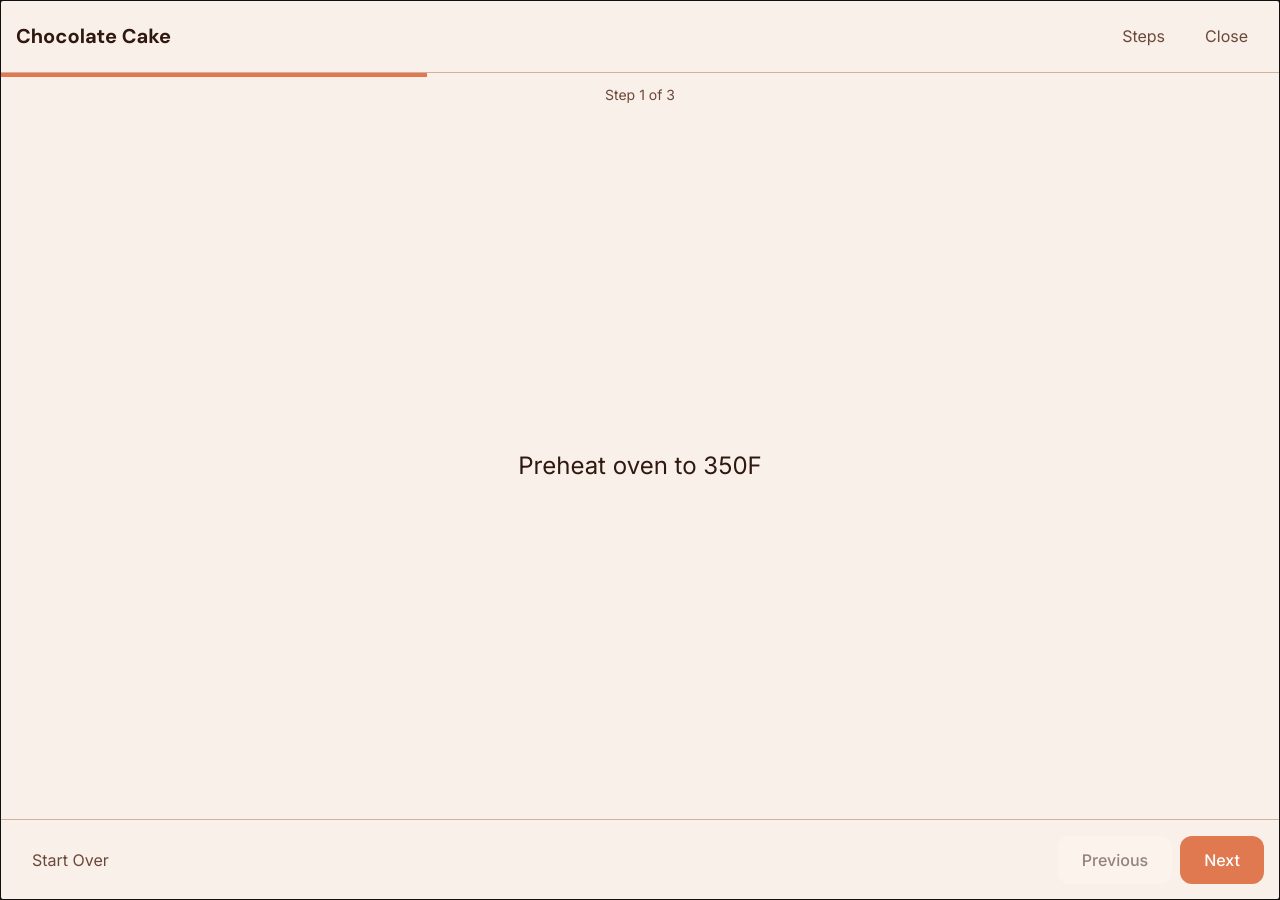
Test: CookingModeOverlay › should navigate steps with Next and Previous buttons
Step 1. Click the button "Next" → [1222, 860], box x1=1180 y1=836 x2=1264 y2=884
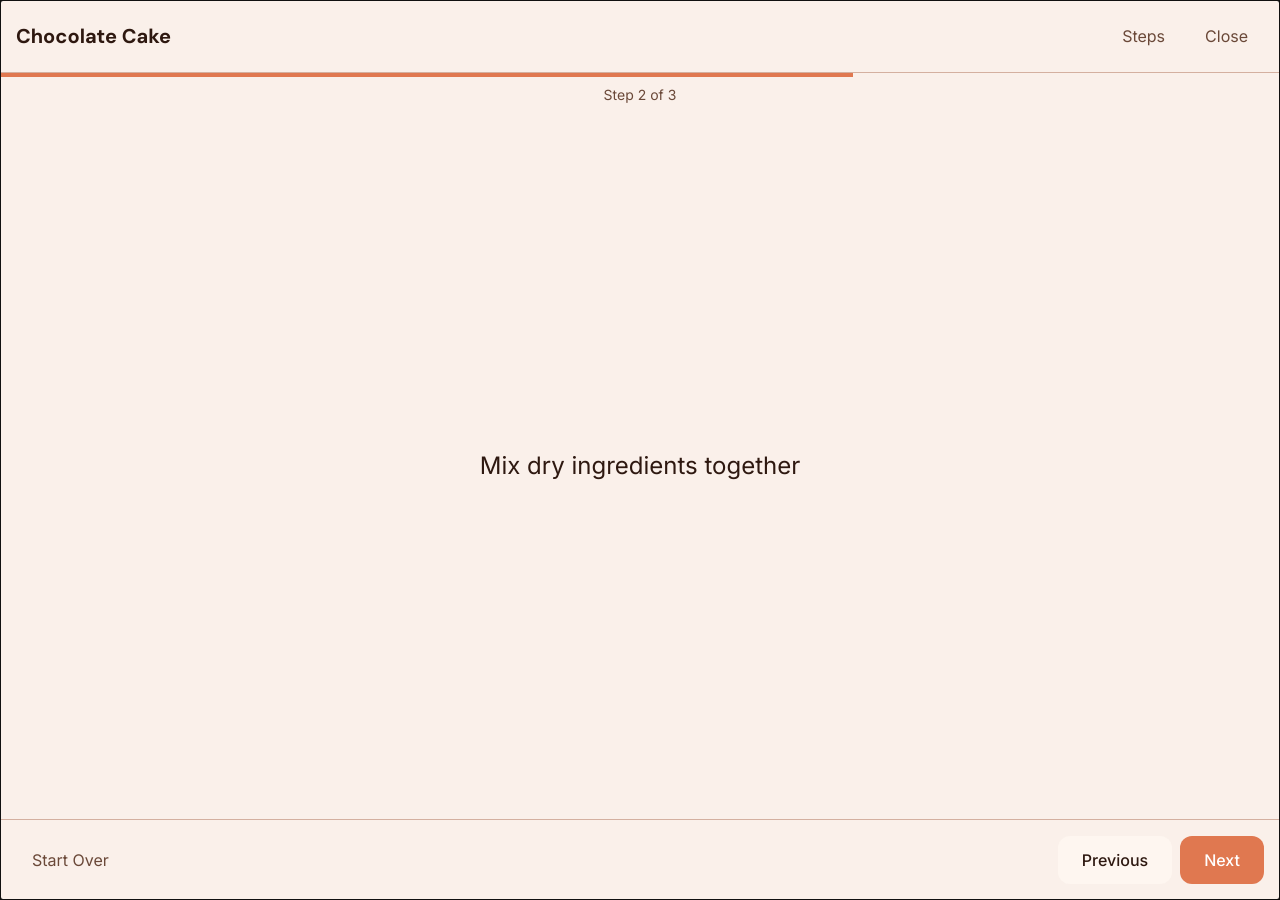
Expected: the text "Mix dry ingredients together" is shown, x1=480 y1=450 x2=800 y2=482
Step 2. Click the button "Previous" → [1115, 860], box x1=1058 y1=836 x2=1172 y2=884
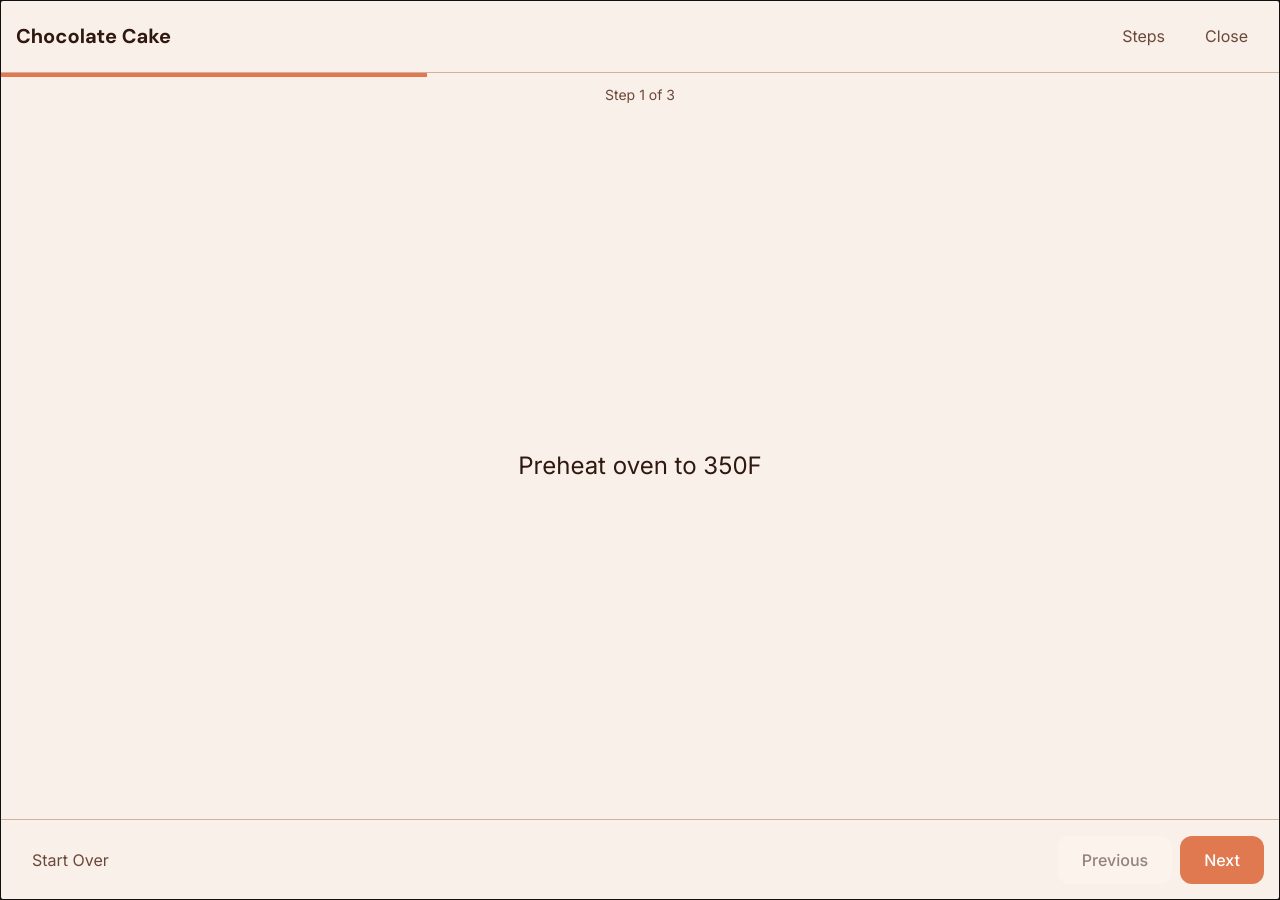
Expected: the text "Preheat oven to 350F" is shown, x1=518 y1=450 x2=762 y2=482
